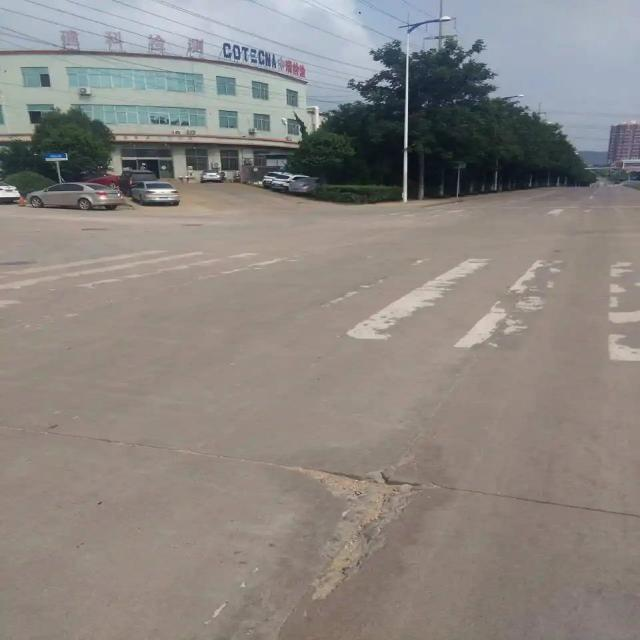Pothole: (258, 457, 441, 601)
